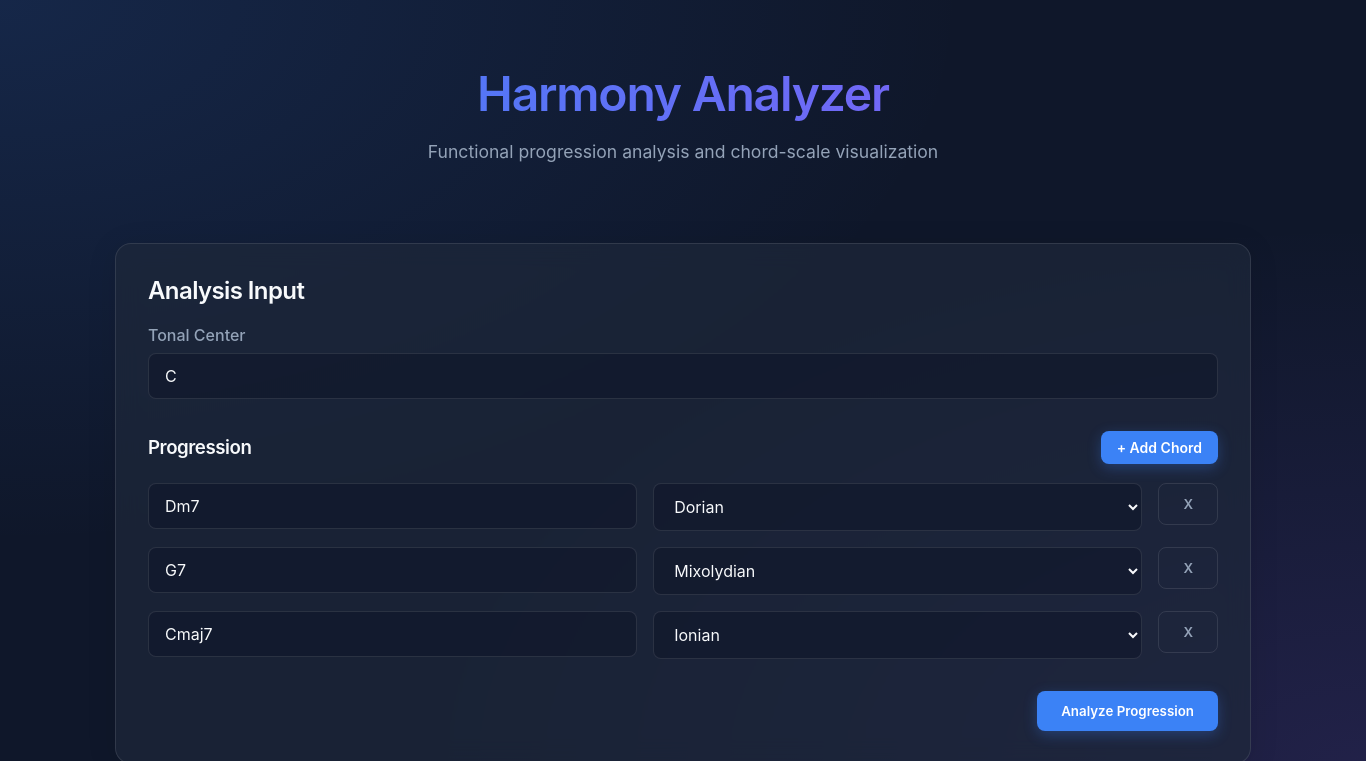
Test: App Integration › handles 500 server errors
The width and height of the screenshot is (1366, 761).
Click the button "Analyze Progression": [1128, 711] box [1037,691,1218,731]
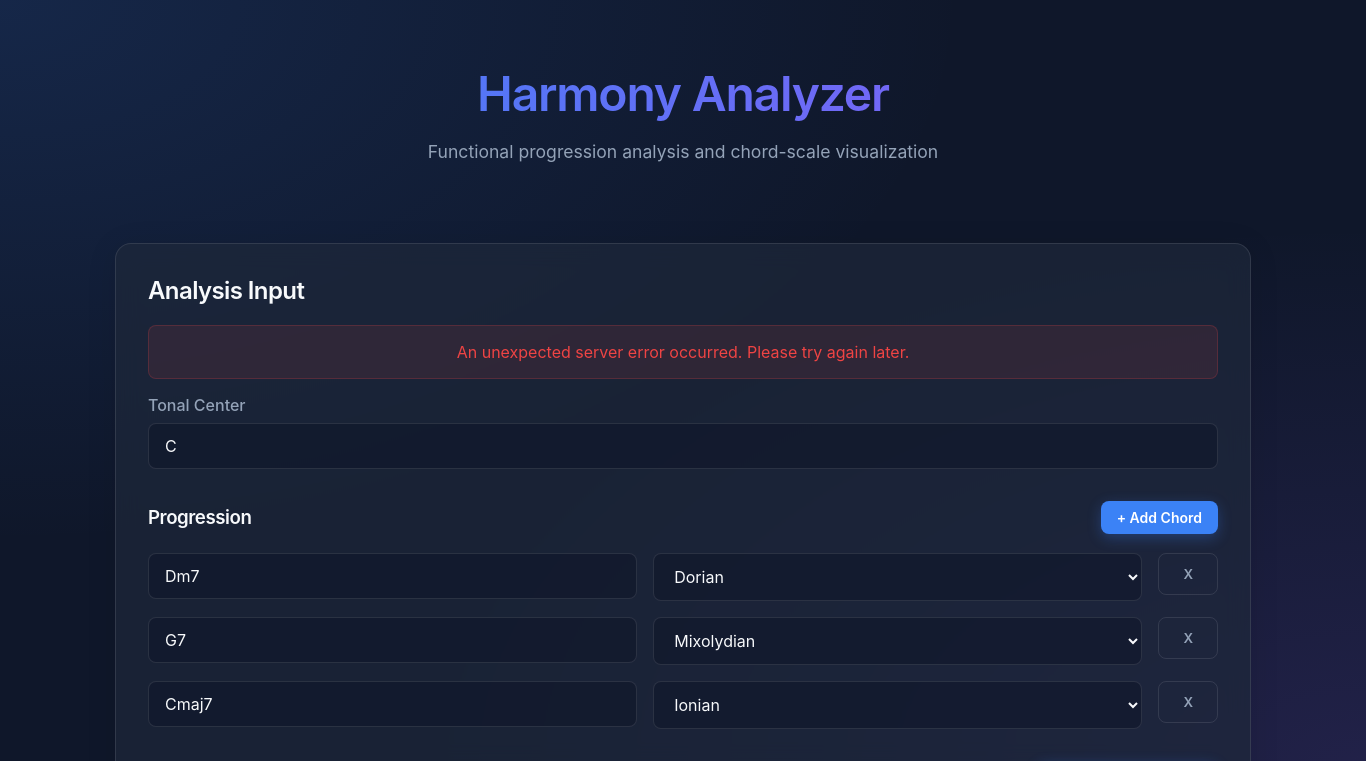
Expected: the text "An unexpected server error occurred. Please try again later." is shown, [148,325,1218,379]
